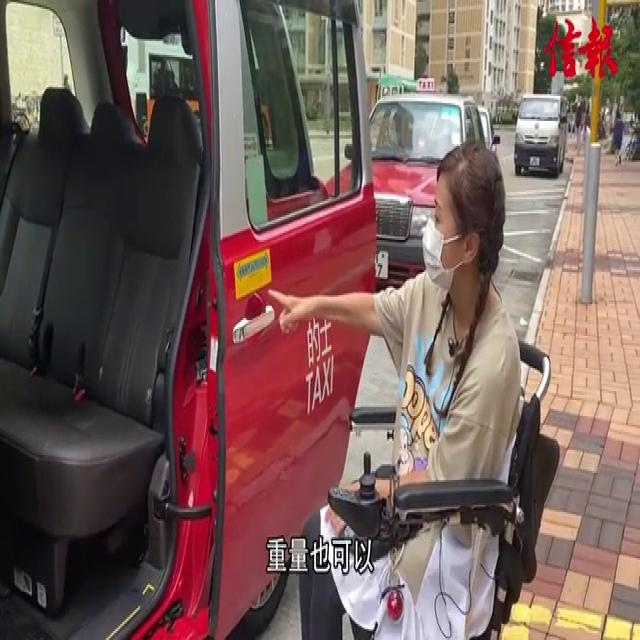wheelchairs: (314, 302, 570, 640)
